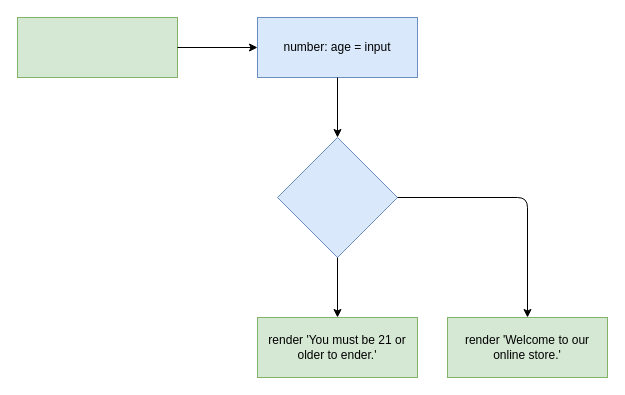
The diagram is 625 pixels wide and 395 high, and some of its shapes have lost their labels. Each missing label, with the centre of its shape:
age > 20: the point at 337,197
onClick: the point at 97,47
